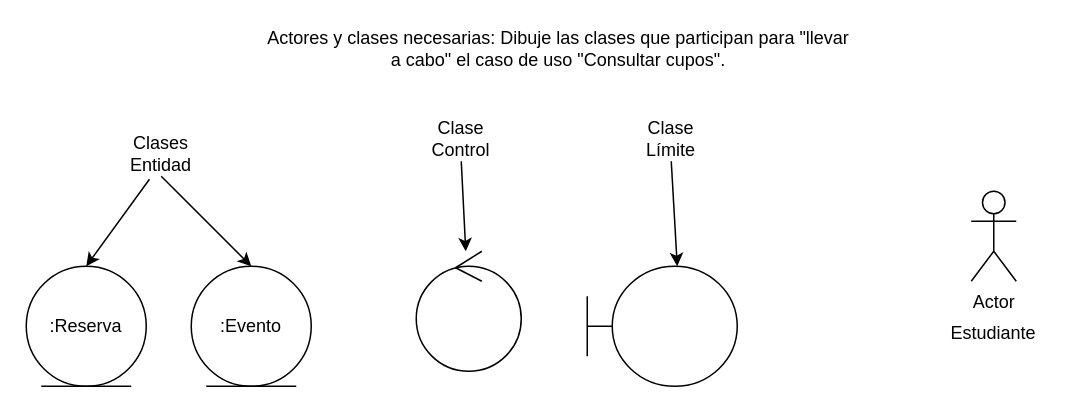
Image size: 1065x413. Some labels were removed from this diagram. The centre of each missing label's shape, as x and y in pixels:
":Calcular Cupos" goes at pixel 468 310.
":Pantalla Eventos" goes at pixel 661 325.
